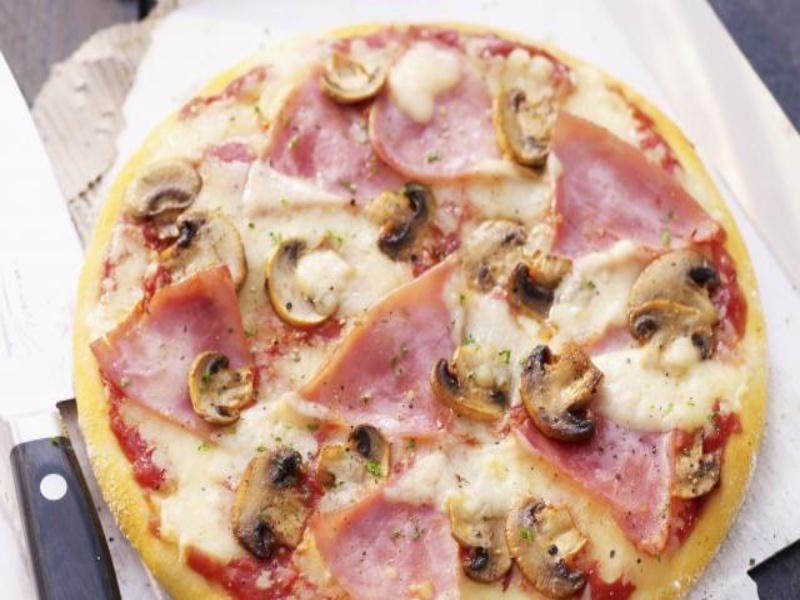champignon: (624, 246, 728, 363), (455, 219, 578, 311), (517, 338, 616, 444), (500, 496, 599, 600), (229, 445, 319, 559), (264, 232, 358, 333), (431, 340, 516, 433), (438, 496, 517, 585), (361, 178, 440, 264), (481, 84, 558, 168), (186, 349, 260, 429), (123, 157, 210, 220)
